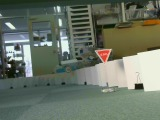stop: (95, 49, 112, 65)
